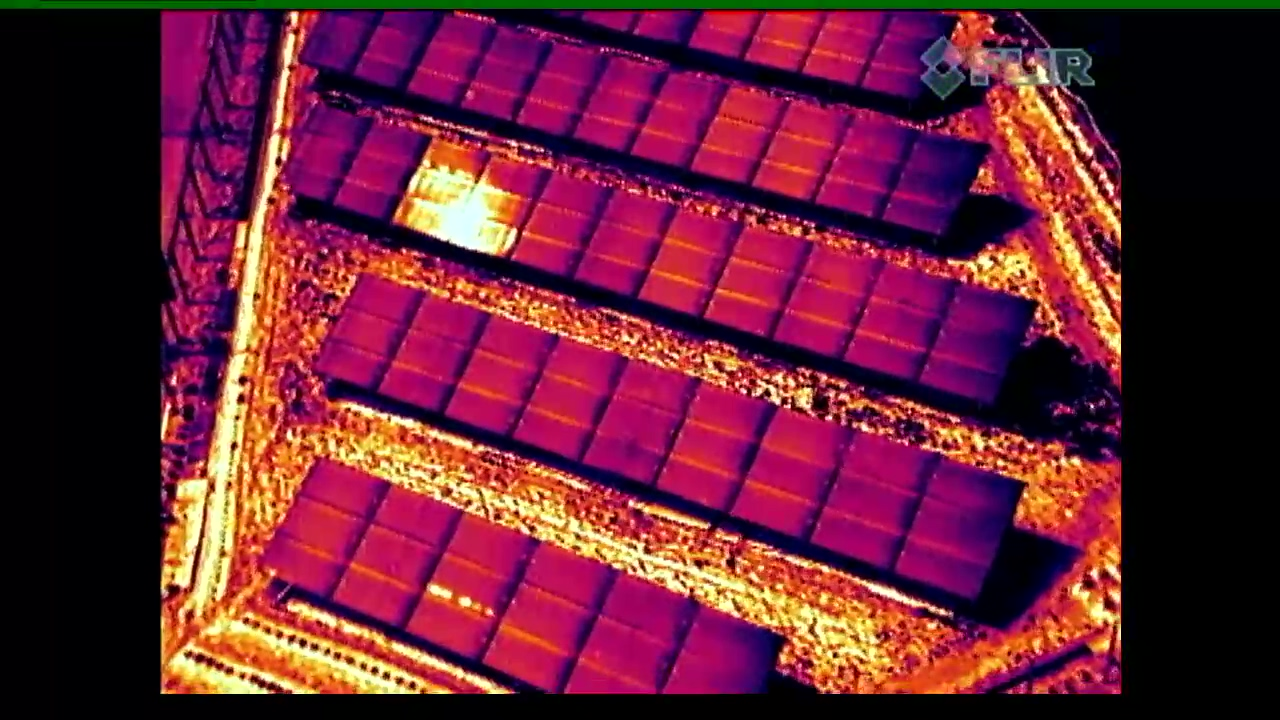hotspot: (406, 512, 540, 654)
